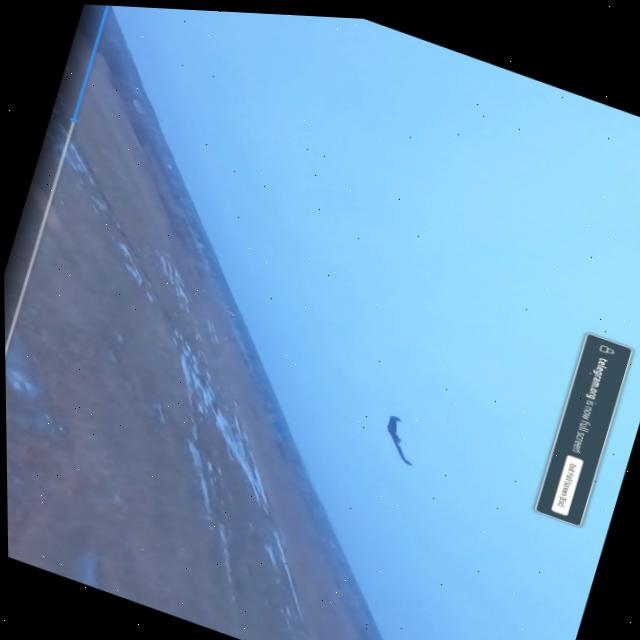planedrone: (372, 412, 427, 468)
